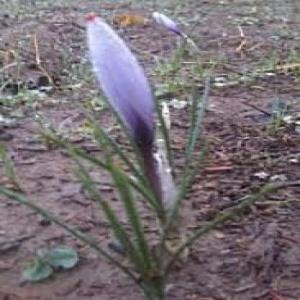Saffron: (87, 20, 166, 159)
